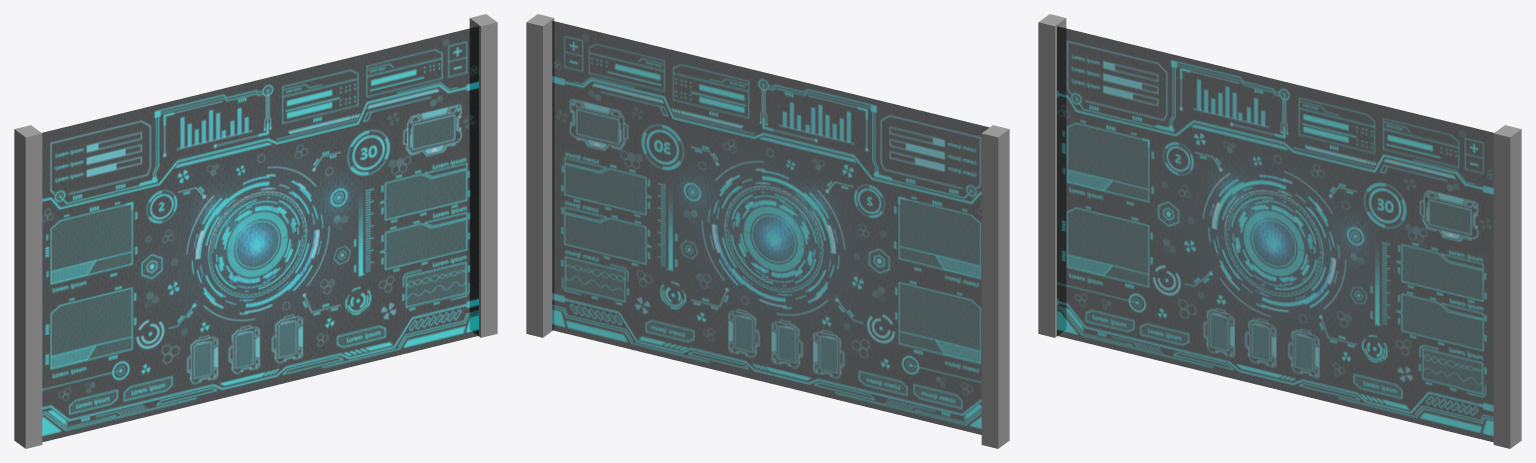
File: computer3.glb
3 renders of one model, left to right at view 1: azimuth 30°, elevation 25°; view 2: azimuth 150°, elevation 25°; view 3: azimuth 330°, elevation 25°, orthographic.
Visible parts, largest first — view 1: Object_5, Object_7, Object_9; view 2: Object_5, Object_7, Object_9; view 3: Object_5, Object_9, Object_7.
Boxes of the visible parts, box(x1,y1,x2,y2) form: Object_5: box(42, 26, 478, 442); Object_7: box(14, 125, 42, 448); Object_9: box(469, 14, 497, 337); Object_5: box(552, 20, 989, 434); Object_7: box(981, 125, 1009, 448); Object_9: box(526, 14, 554, 337); Object_5: box(1057, 26, 1493, 442); Object_9: box(1493, 125, 1521, 448); Object_7: box(1038, 14, 1066, 337).
Bounding box in the file's own units: 0.7695 × 0.4857 × 0.0321.
Materials: 2 (2 with a texture image).
